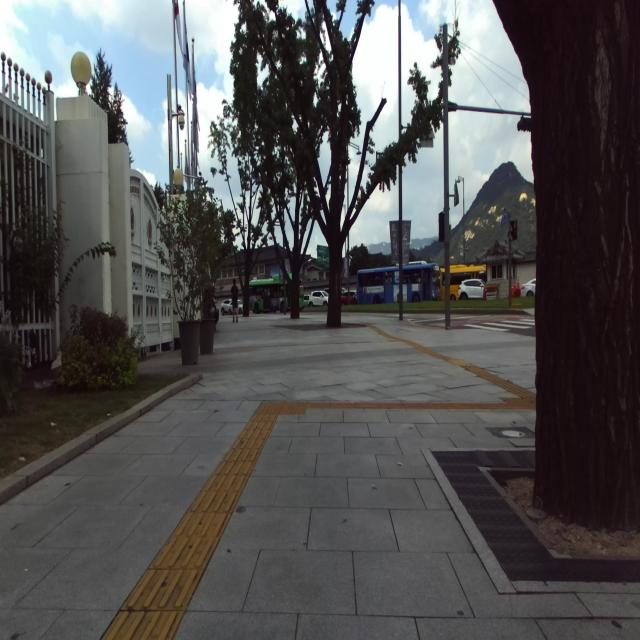횡단보도: (462, 319, 535, 331)
